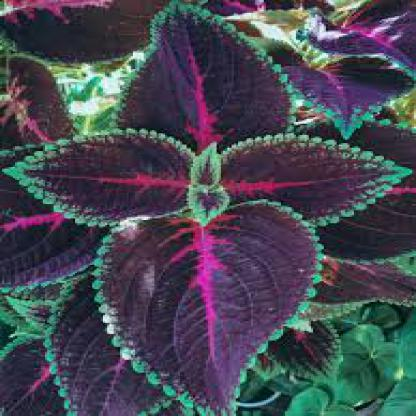Bunga Coleus: (35, 41, 389, 390)
